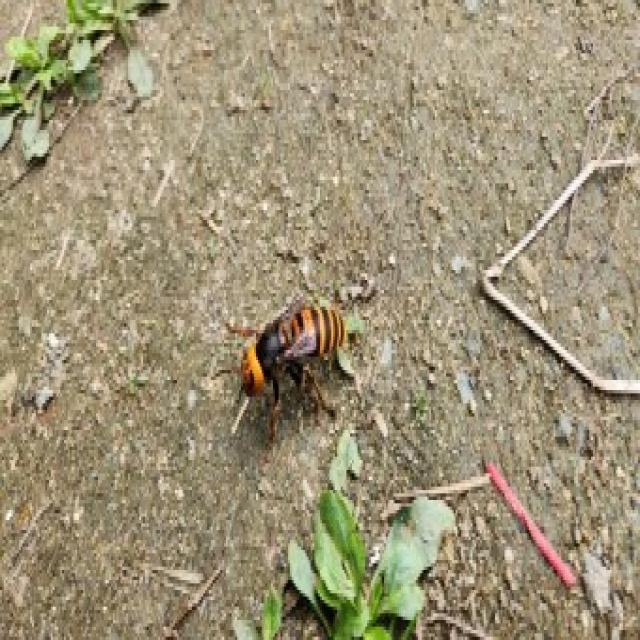Wasp: (214, 293, 360, 431)
